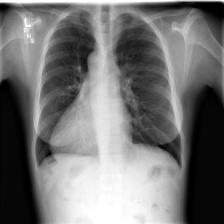normal: (29, 5, 187, 174)
